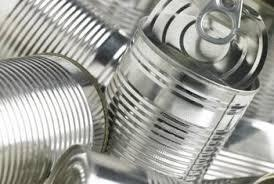Tin: (2, 5, 274, 184)
